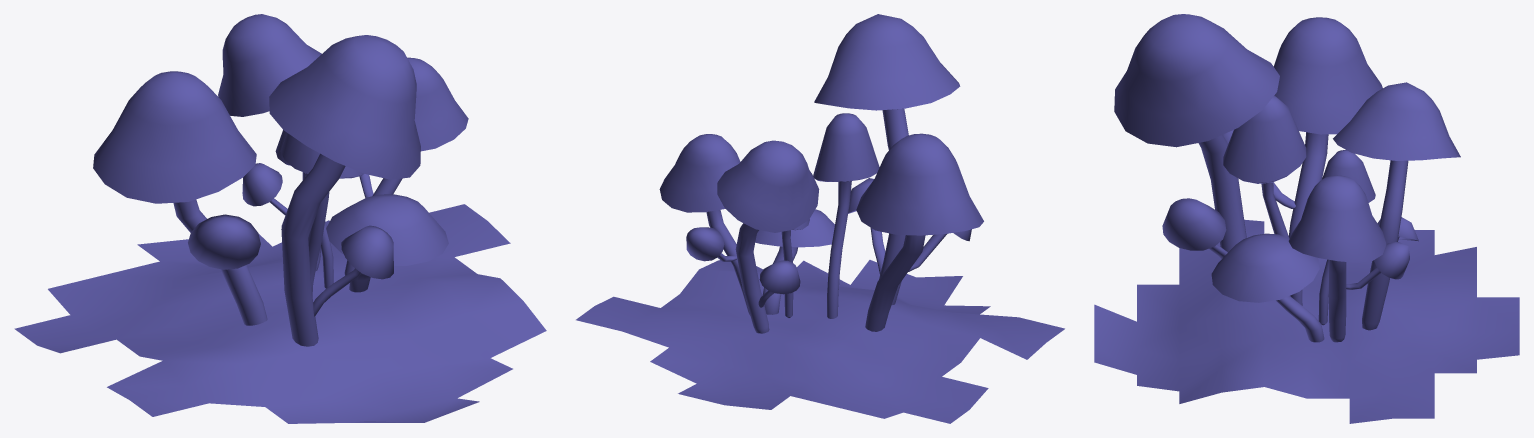
Rendered from shroomgp1.fbx.
3 renders of one model, left to right at view 1: azimuth 30°, elevation 25°; view 2: azimuth 150°, elevation 25°; view 3: azimuth 270°, elevation 25°, orthographic. The views are drawn at different scales.
Visible parts, largest first — view 1: shroomgp1; view 2: shroomgp1; view 3: shroomgp1.
Boxes of the visible parts, box(x1,y1,x2,y2) form: shroomgp1: box(14, 14, 546, 423); shroomgp1: box(576, 14, 1064, 423); shroomgp1: box(1094, 14, 1519, 423).
Bounding box in the file's own units: 0.64 × 0.4814 × 0.5679.
